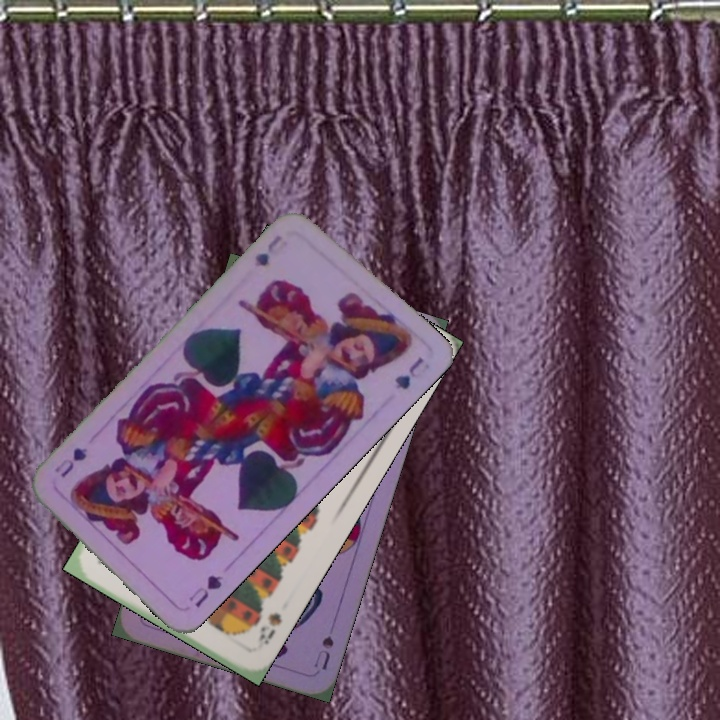GU: (184, 571, 225, 610), (250, 230, 285, 270)
S8: (252, 608, 285, 651)
SU: (309, 631, 336, 673)
